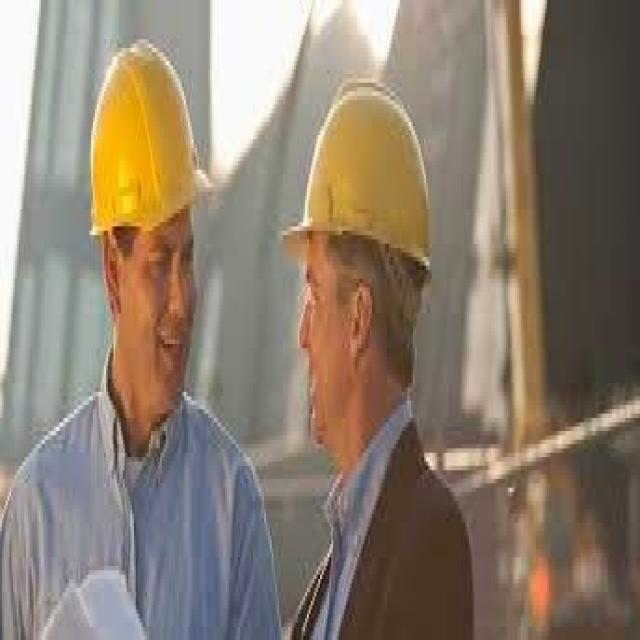safety_helmet: (279, 69, 444, 296), (83, 34, 210, 248)
